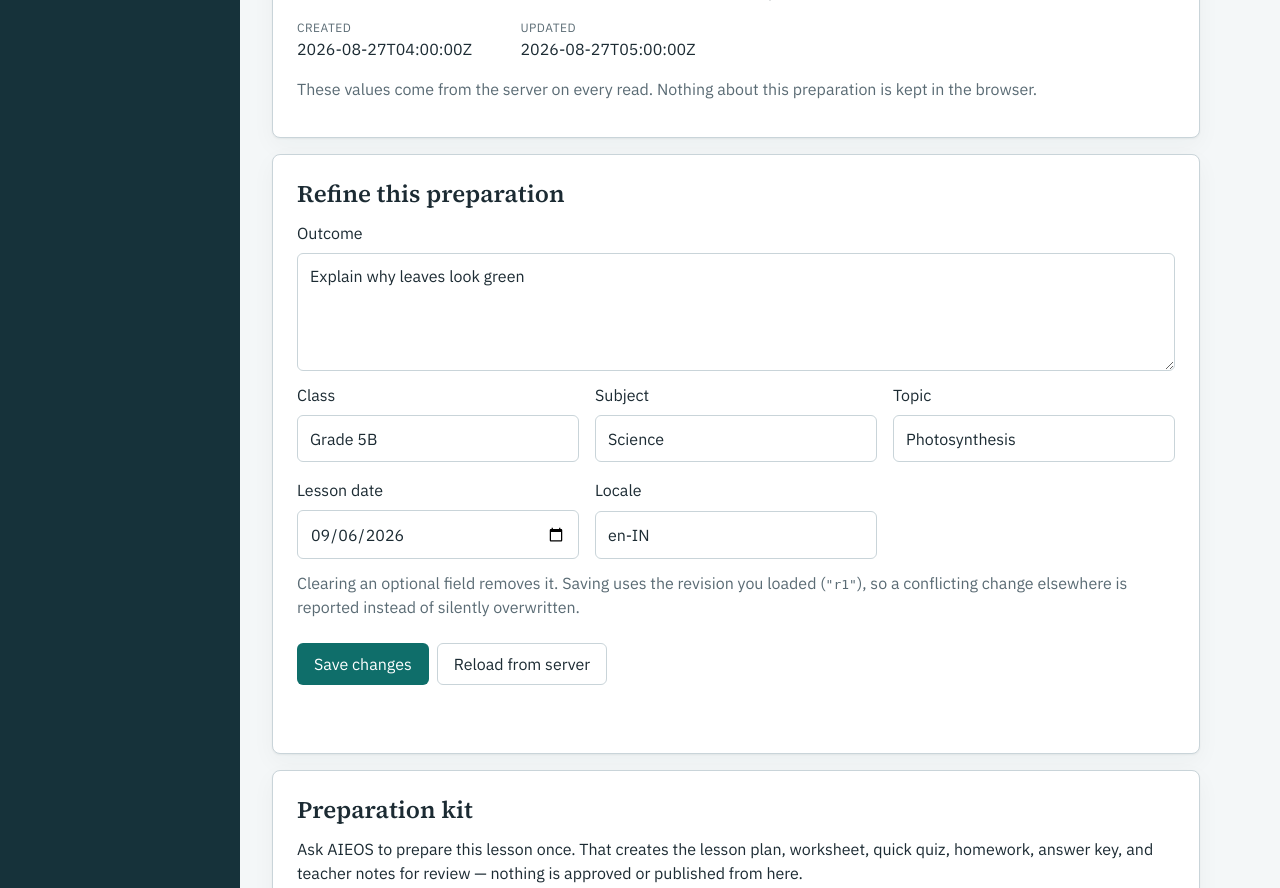
Test: G. Work refinement uses If-Match and Idempotency-Key › PATCHes only the changed fields and shows the server's values
(page scrolled)
Expected: the heading "Refine this preparation" is shown, [297, 176, 564, 210]
Replace the text in the field labelled "Topic" with "Photosynthesis in leaves": (1034, 439) [893, 415, 1175, 462]
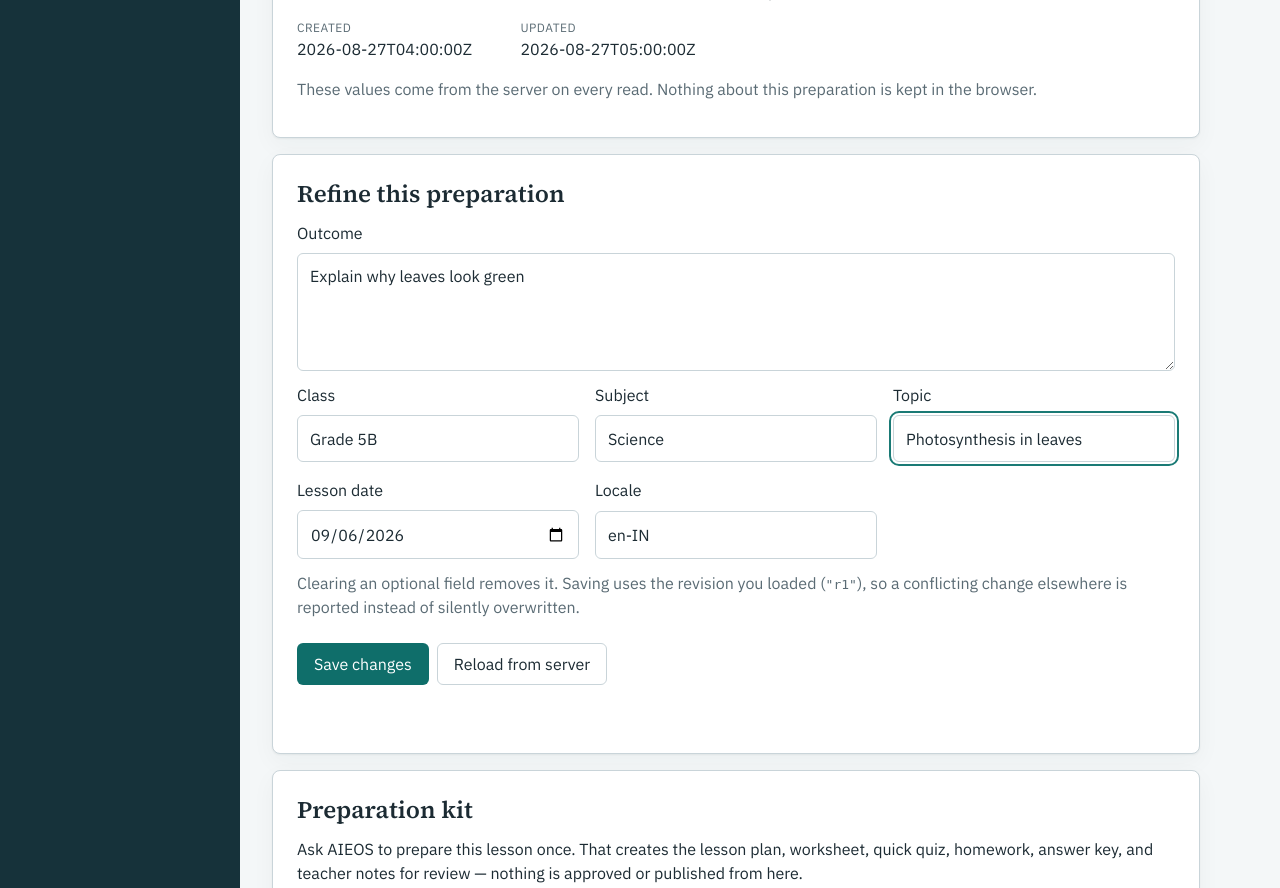
Click the button "Save changes": (363, 664) [297, 643, 429, 685]
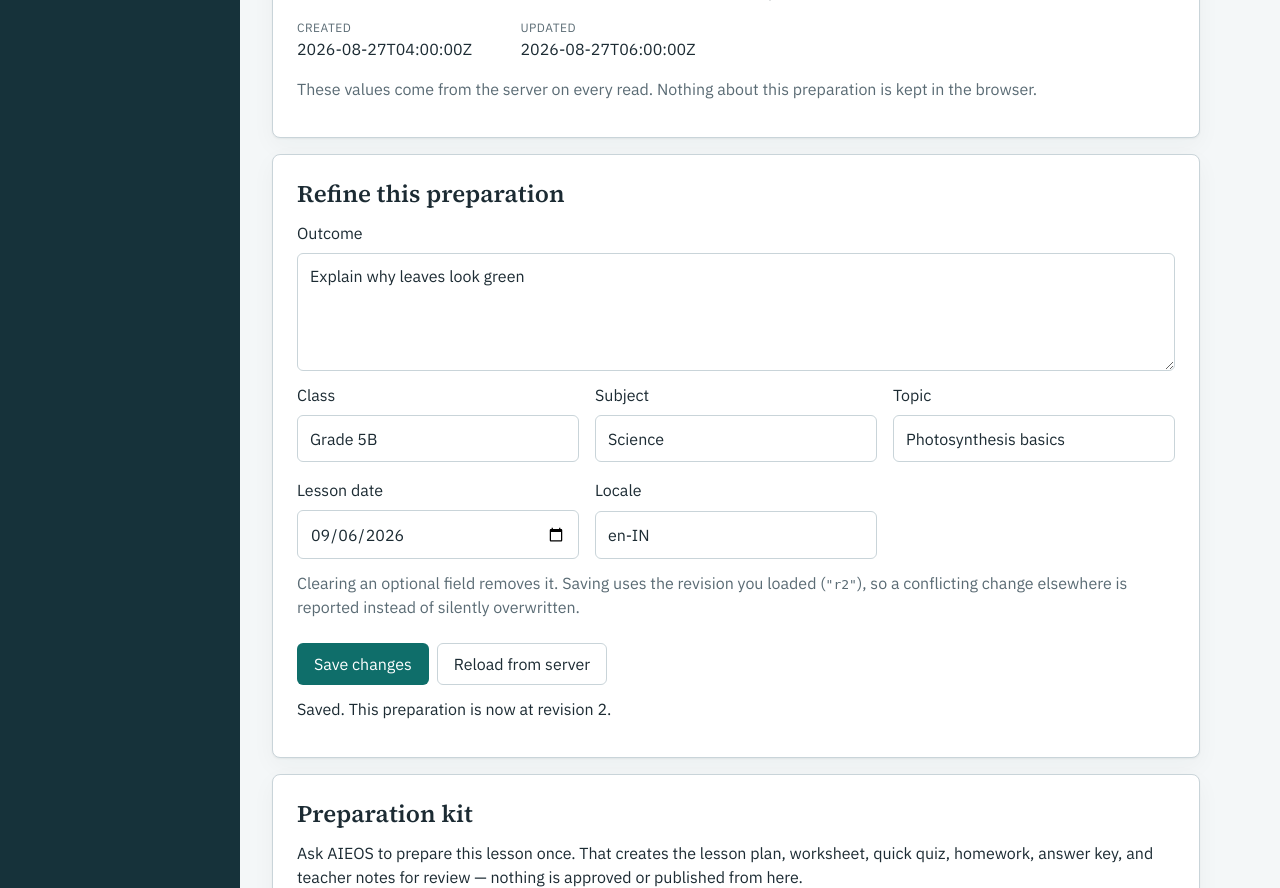
Now the text "Saved. This preparation is now at revision 2." is shown, box [297, 699, 611, 719]
Now the field labelled "Topic" holds "Photosynthesis basics", box [893, 415, 1175, 462]
